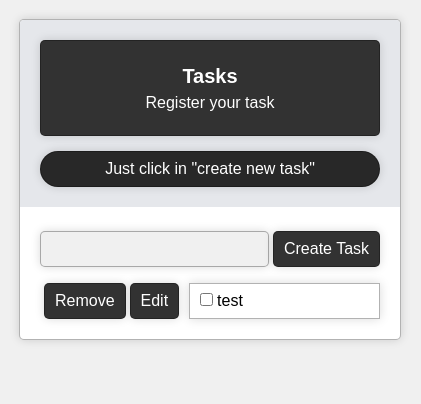
Scenario: Pages - Task Page › creates new task when typing and clicking Create Task
The image size is (421, 404).
In the field: (154, 249) x1=40 y1=231 x2=269 y2=267, type "New Task from Page"
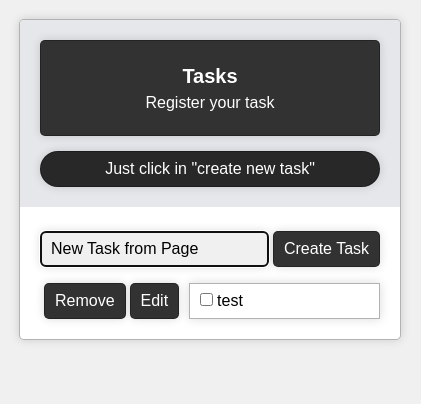
Click the button "Create Task": (327, 249) x1=273 y1=231 x2=380 y2=267
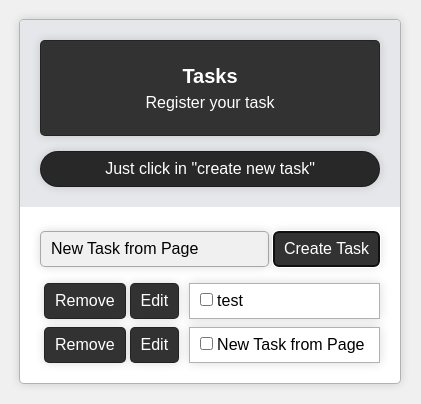
Expected: the text "test" is shown, x1=217 y1=292 x2=243 y2=309
Expected: the text "New Task from Page" is shown, x1=217 y1=336 x2=364 y2=353
Expected: the number of buttons "Remove" is 2, x1=44 y1=283 x2=126 y2=319; x1=44 y1=327 x2=126 y2=363
